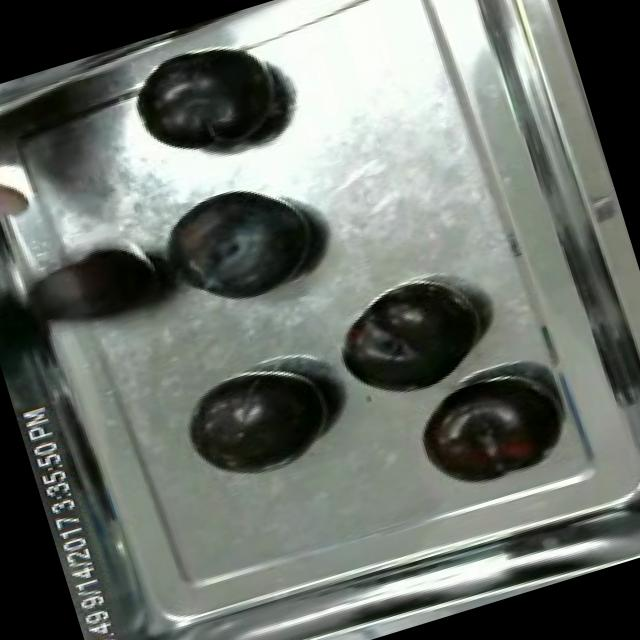Fruit: (148, 161, 337, 328), (111, 22, 302, 183), (319, 267, 496, 415), (173, 349, 350, 494), (402, 360, 574, 501)
